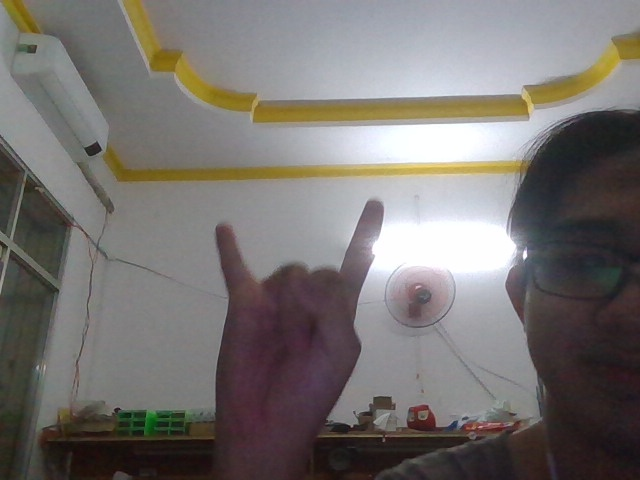yolo: (175, 184, 386, 440)
